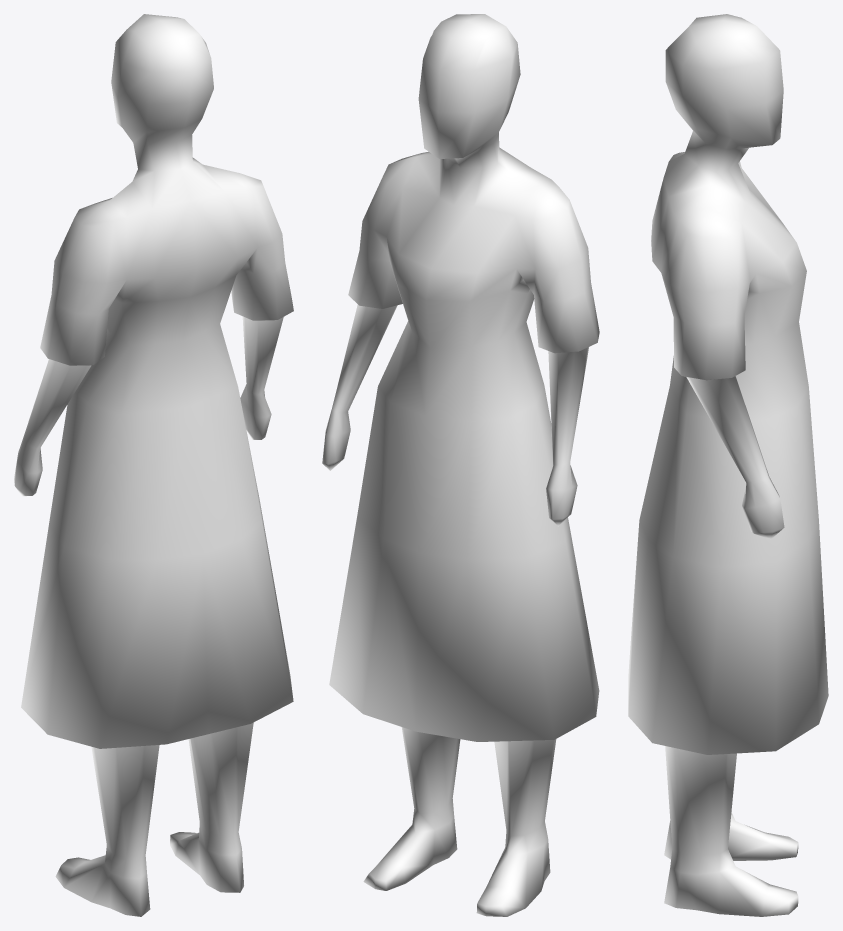
The model's file is avatar.glb.
The picture shows the model from 3 angles, left to right: view 1: azimuth 30°, elevation 25°; view 2: azimuth 150°, elevation 25°; view 3: azimuth 270°, elevation 25°; orthographic projection.
Visible parts, largest first — view 1: Ref_Femme_170; view 2: Ref_Femme_170; view 3: Ref_Femme_170.
Boxes of the visible parts, x1,y1,x2,y2 form: Ref_Femme_170: (14, 14, 293, 916); Ref_Femme_170: (322, 14, 599, 916); Ref_Femme_170: (628, 14, 828, 916).
Size of the model in its own units: 0.5 by 1.69 by 0.3569.
1 material, 1 textured.
